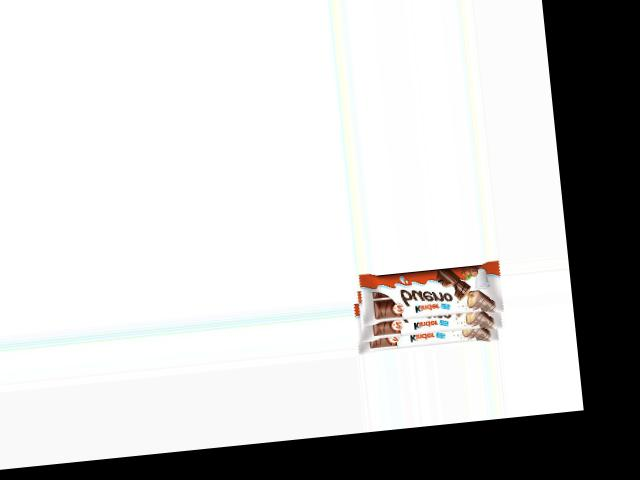chocolate: (351, 259, 503, 354)
